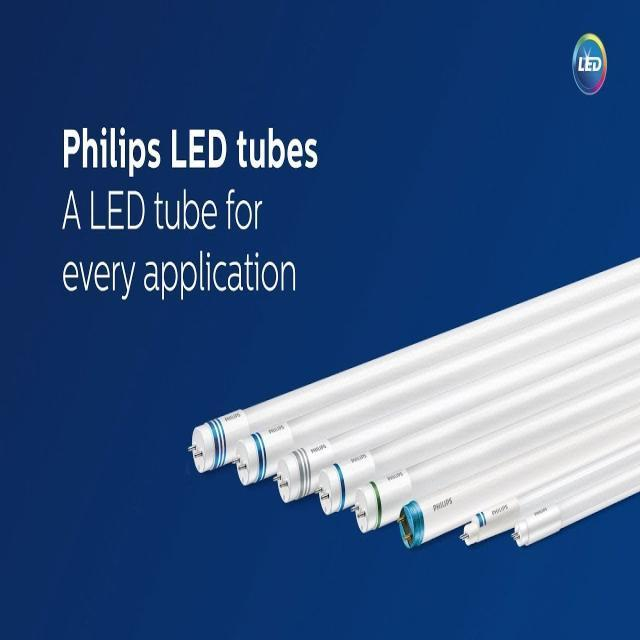tubelight_off: (179, 252, 640, 480), (224, 273, 640, 492), (269, 309, 640, 505), (313, 332, 640, 518), (350, 366, 640, 537), (390, 406, 640, 547), (455, 438, 637, 552), (506, 458, 640, 553)
